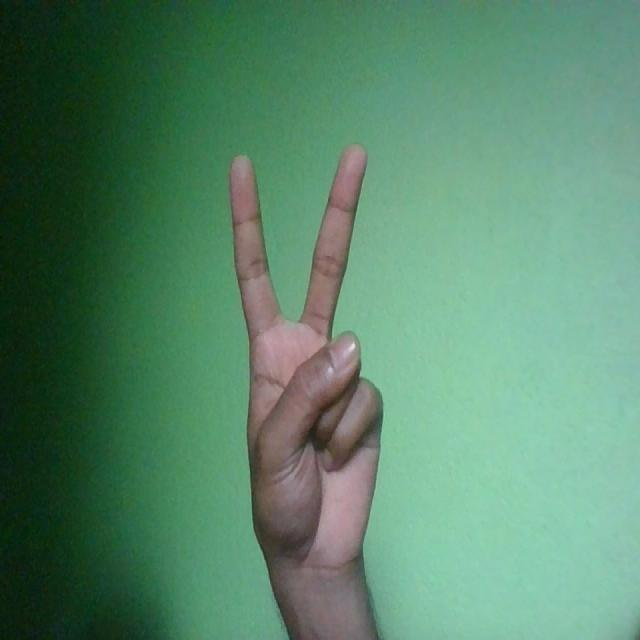Fist: (229, 142, 384, 580)
